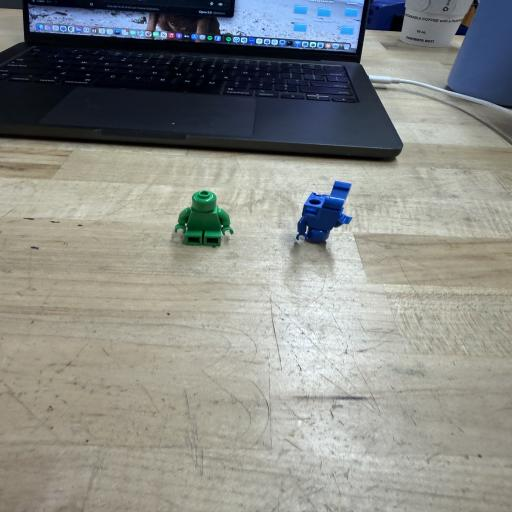blue-minifig: (322, 181, 351, 213)
green-minifig: (175, 190, 233, 245)
